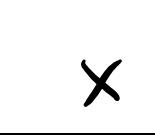mult: (80, 59, 122, 107)
